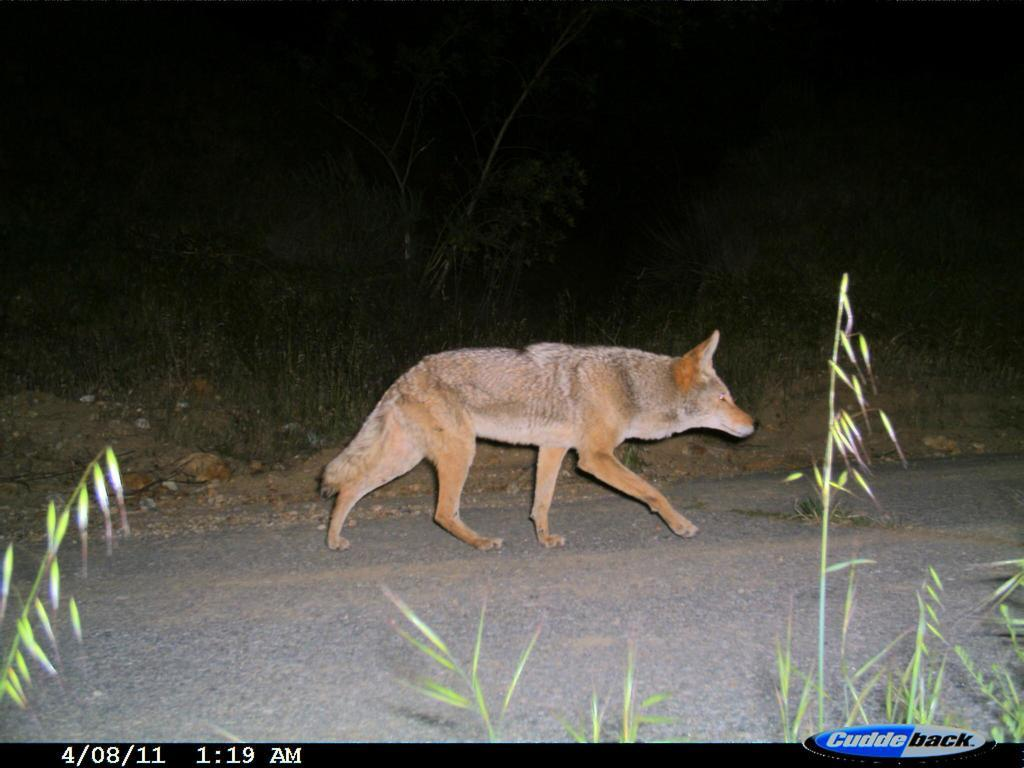coyote: (315, 324, 762, 559)
